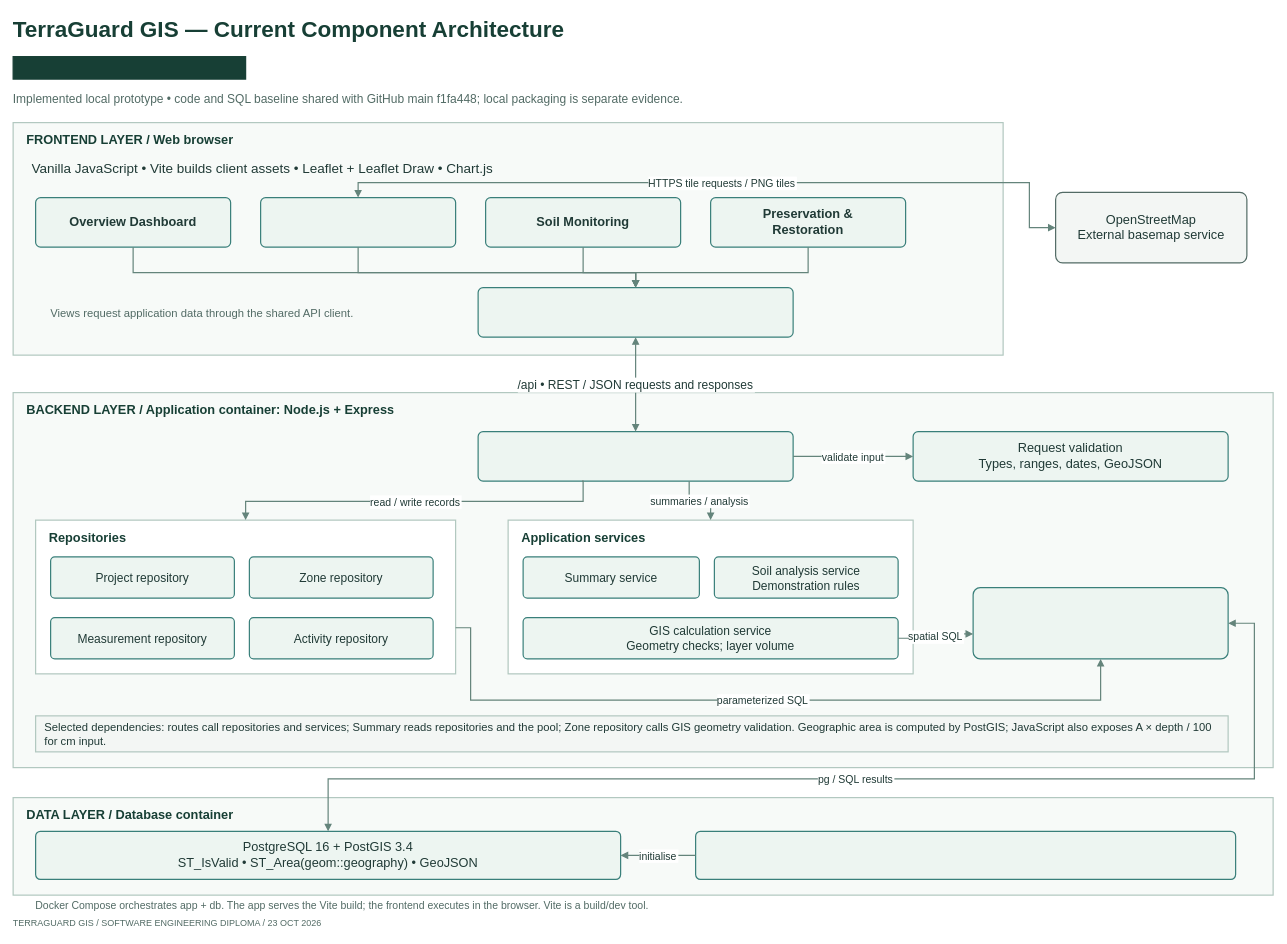
The diagram is 1287 pixels wide and 944 high, and some of its shapes have lost their labels. The box of each missing label's shape, as (x1, y1, x2, y2) in pixels:
API routes server/routes.js: (477, 431, 793, 481)
CURRENT IMPLEMENTATION: (12, 56, 246, 79)
Frontend API client client/lib/api.js: (477, 287, 793, 337)
GIS Map: (260, 197, 456, 247)
PostgreSQL connection pool pg client • server/db.js: (972, 587, 1228, 659)
SQL migrations + synthetic seed data database/run.js • database/seeds/demo.sql: (695, 830, 1236, 880)
